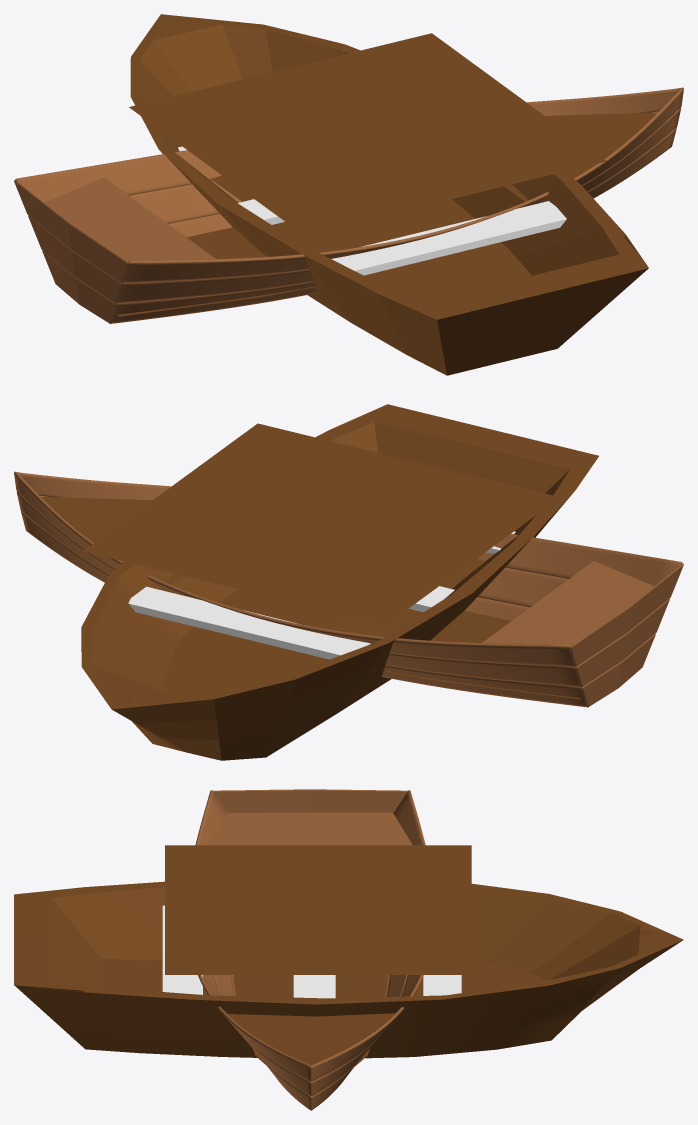
Rendered from boat.glb.
3 views of the same model, one above another, from view 1: azimuth 30°, elevation 25°; view 2: azimuth 150°, elevation 25°; view 3: azimuth 270°, elevation 25° (orthographic). The views are drawn at different scales.
Parts seen in each view (by area): view 1: Circle.001, Circle, side, Circle.003, Plane.003, back, Cube, Plane.004, Plane.001, Plane.002; view 2: Circle.001, Circle, side, Plane.003, back, Cube.002, Plane.004, Plane.001, Plane.002; view 3: Circle.001, Circle, Circle.002, side, Plane.003, Plane.004, back, Cube.001, Cube, Cube.002.
Boxes of the visible parts, x1=… form: Circle.001: x1=129, y1=33, x2=606, y2=375; Circle: x1=130, y1=14, x2=648, y2=319; side: x1=15, y1=87, x2=683, y2=323; Circle.003: x1=437, y1=268, x2=648, y2=375; Plane.003: x1=44, y1=177, x2=215, y2=262; back: x1=14, y1=180, x2=128, y2=323; Cube: x1=331, y1=201, x2=566, y2=275; Plane.004: x1=504, y1=112, x2=656, y2=201; Plane.001: x1=117, y1=227, x2=315, y2=316; Plane.002: x1=211, y1=175, x2=364, y2=252; Circle.001: x1=83, y1=423, x2=574, y2=760; Circle: x1=81, y1=404, x2=598, y2=709; side: x1=14, y1=471, x2=682, y2=706; Plane.003: x1=482, y1=561, x2=654, y2=646; back: x1=569, y1=563, x2=683, y2=707; Cube.002: x1=128, y1=586, x2=370, y2=659; Plane.004: x1=41, y1=497, x2=183, y2=584; Plane.001: x1=383, y1=611, x2=580, y2=699; Plane.002: x1=331, y1=559, x2=484, y2=636; Circle.001: x1=165, y1=845, x2=471, y2=974; Circle: x1=14, y1=881, x2=683, y2=1004; Circle.002: x1=14, y1=940, x2=682, y2=1058; side: x1=195, y1=790, x2=425, y2=1110; Plane.003: x1=208, y1=812, x2=412, y2=845; Plane.004: x1=227, y1=1013, x2=394, y2=1065; back: x1=213, y1=789, x2=407, y2=812; Cube.001: x1=293, y1=975, x2=335, y2=998; Cube: x1=162, y1=905, x2=202, y2=994; Cube.002: x1=423, y1=975, x2=461, y2=995.
Size of what is drawn, in the model's own units: 4.07 by 0.8553 by 4.37.
